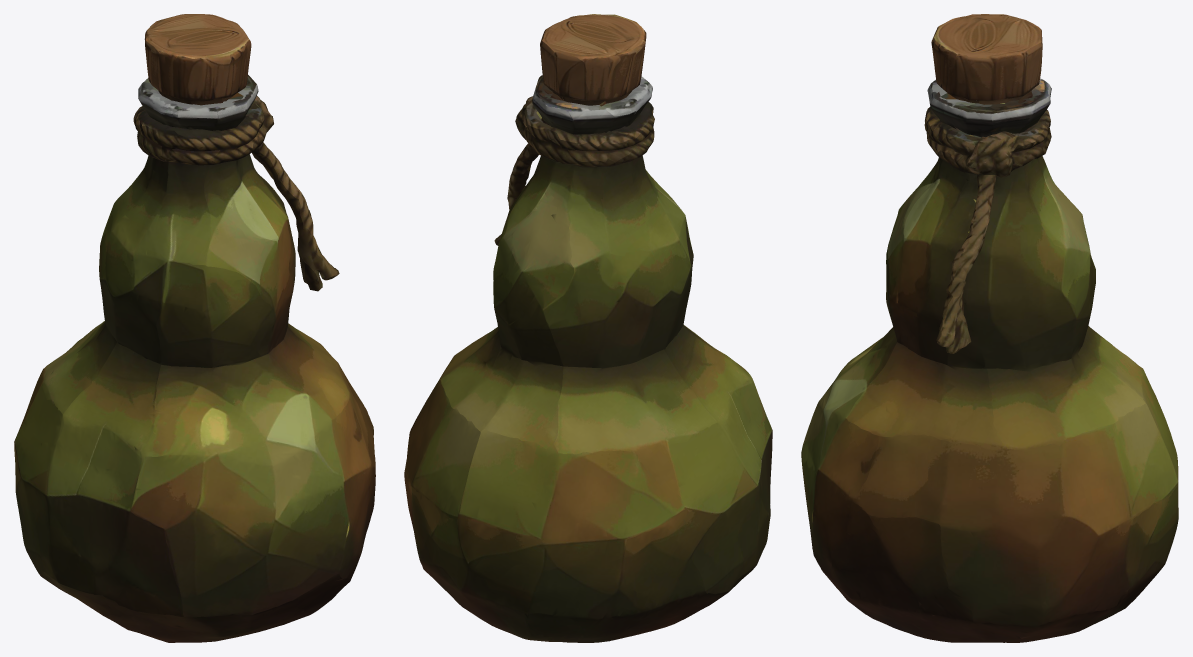
The model's file is tool_water_flask_empty.glb.
The picture shows the model from 3 angles, left to right: view 1: azimuth 30°, elevation 25°; view 2: azimuth 150°, elevation 25°; view 3: azimuth 270°, elevation 25°; orthographic projection.
Parts seen in each view (by area): view 1: tool_water_flask_empty; view 2: tool_water_flask_empty; view 3: tool_water_flask_empty.
Boxes of the visible parts, bbox=[...] form: tool_water_flask_empty: bbox=[14, 14, 375, 642]; tool_water_flask_empty: bbox=[404, 14, 772, 642]; tool_water_flask_empty: bbox=[801, 14, 1178, 642].
Bounding box in the file's own units: 0.1439 × 0.25 × 0.1483.
1 material, 1 textured.
